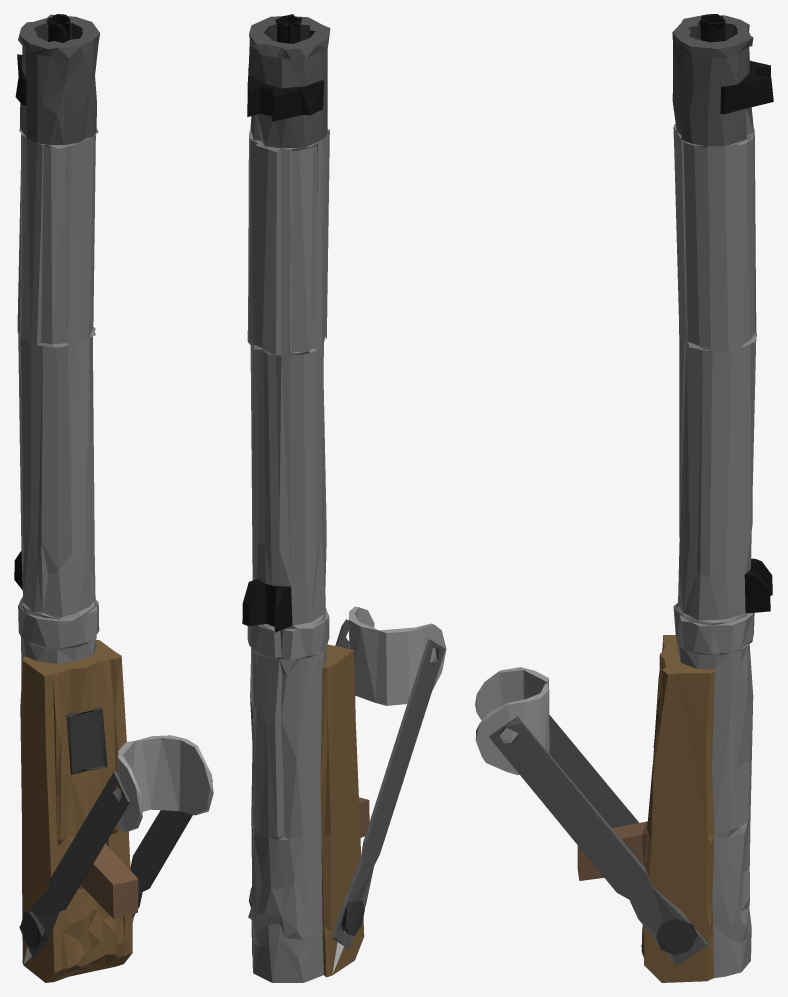
File: Turret V2Worn(Turret).fbx
3 views of the same model, side by side, from view 1: azimuth 30°, elevation 25°; view 2: azimuth 150°, elevation 25°; view 3: azimuth 270°, elevation 25° (orthographic).
Parts seen in each view (by area): view 1: Turret; view 2: Turret; view 3: Turret.
Boxes of the visible parts, <box> form: Turret: <box>14,14,213,982</box>; Turret: <box>242,14,446,982</box>; Turret: <box>475,14,773,982</box>.
Bounding box in the file's own units: 39.62 × 371 × 106.
